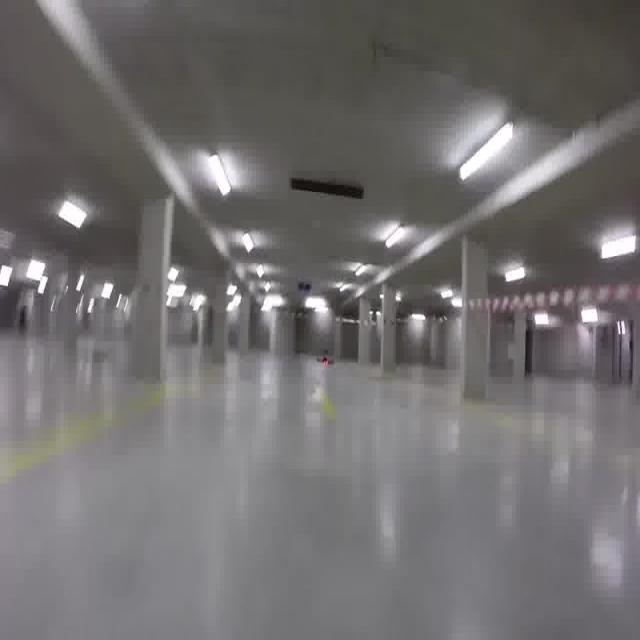drones: (313, 346, 336, 374)
